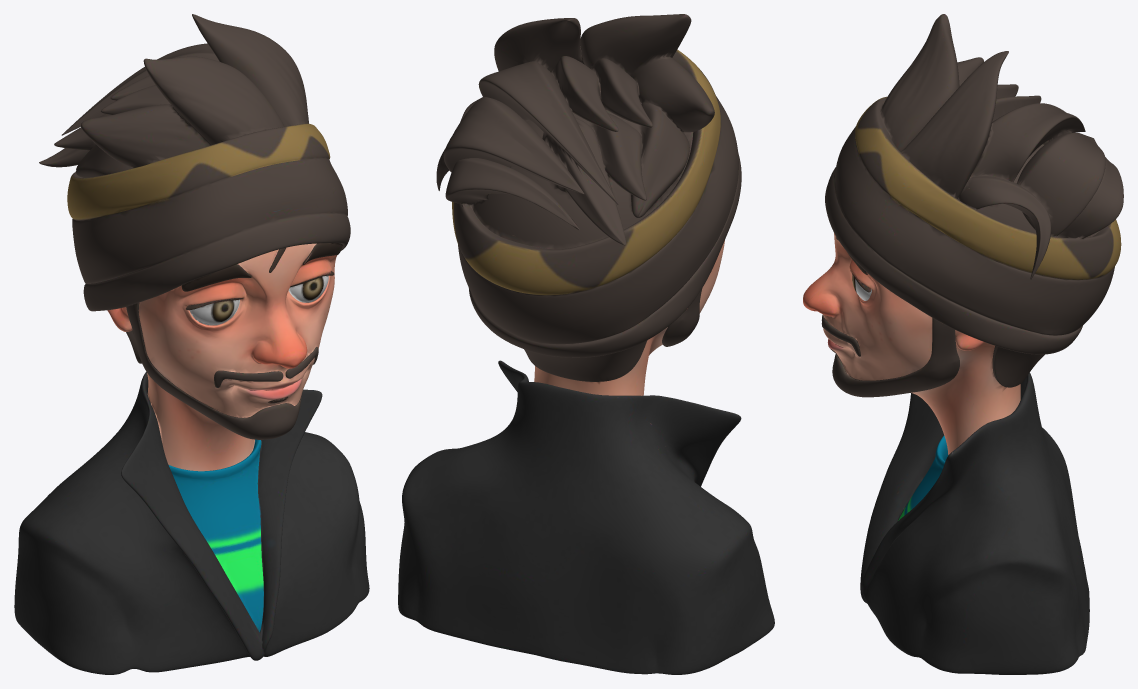
File: Boy.glb
The picture shows the model from 3 angles, left to right: view 1: azimuth 30°, elevation 25°; view 2: azimuth 150°, elevation 25°; view 3: azimuth 270°, elevation 25°; orthographic projection. The views are drawn at different scales.
Parts seen in each view (by area): view 1: boy_001; view 2: boy_001; view 3: boy_001.
Boxes of the visible parts, x1,y1,x2,y2 form: boy_001: (14,14,369,674); boy_001: (398,14,774,674); boy_001: (803,14,1123,674).
Bounding box in the file's own units: 39.72 × 71.04 × 36.95.
Materials: 1 (1 with a texture image).
